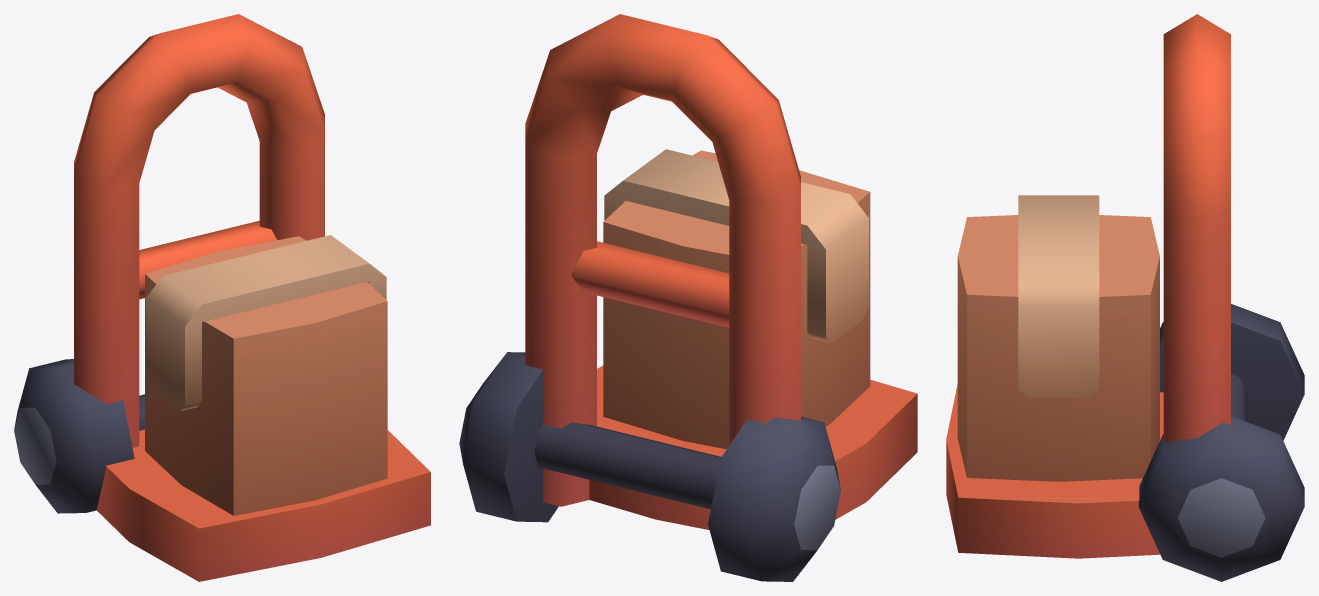
Rendered from hand-truck.glb.
3 views of the same model, side by side, from view 1: azimuth 30°, elevation 25°; view 2: azimuth 150°, elevation 25°; view 3: azimuth 270°, elevation 25° (orthographic). The views are drawn at different scales.
Parts seen in each view (by area): view 1: hand-truck, box; view 2: hand-truck, box; view 3: hand-truck, box.
Boxes of the visible parts, <box> form: hand-truck: <box>14,14,430,581</box>; box: <box>145,235,387,515</box>; hand-truck: <box>459,14,917,581</box>; box: <box>603,149,870,449</box>; hand-truck: <box>946,14,1304,581</box>; box: <box>957,195,1159,481</box>.
Bounding box in the file's own units: 0.3733 × 0.5466 × 0.368.
1 material, 1 textured.
